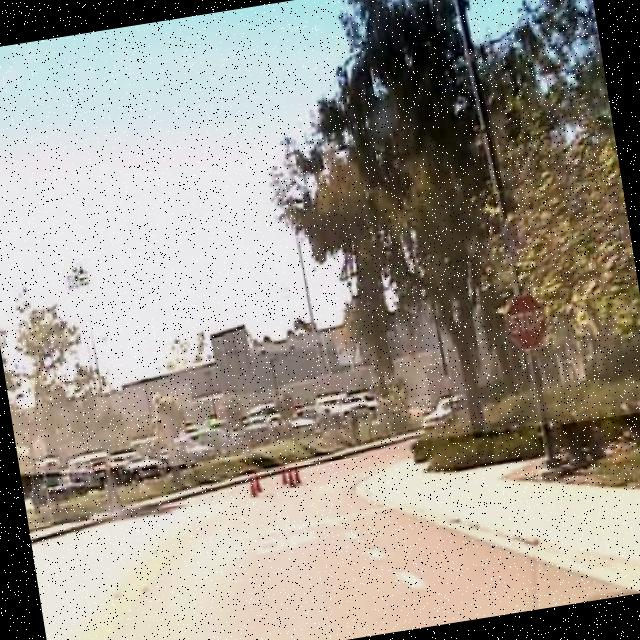Stop: (501, 292, 551, 356)
